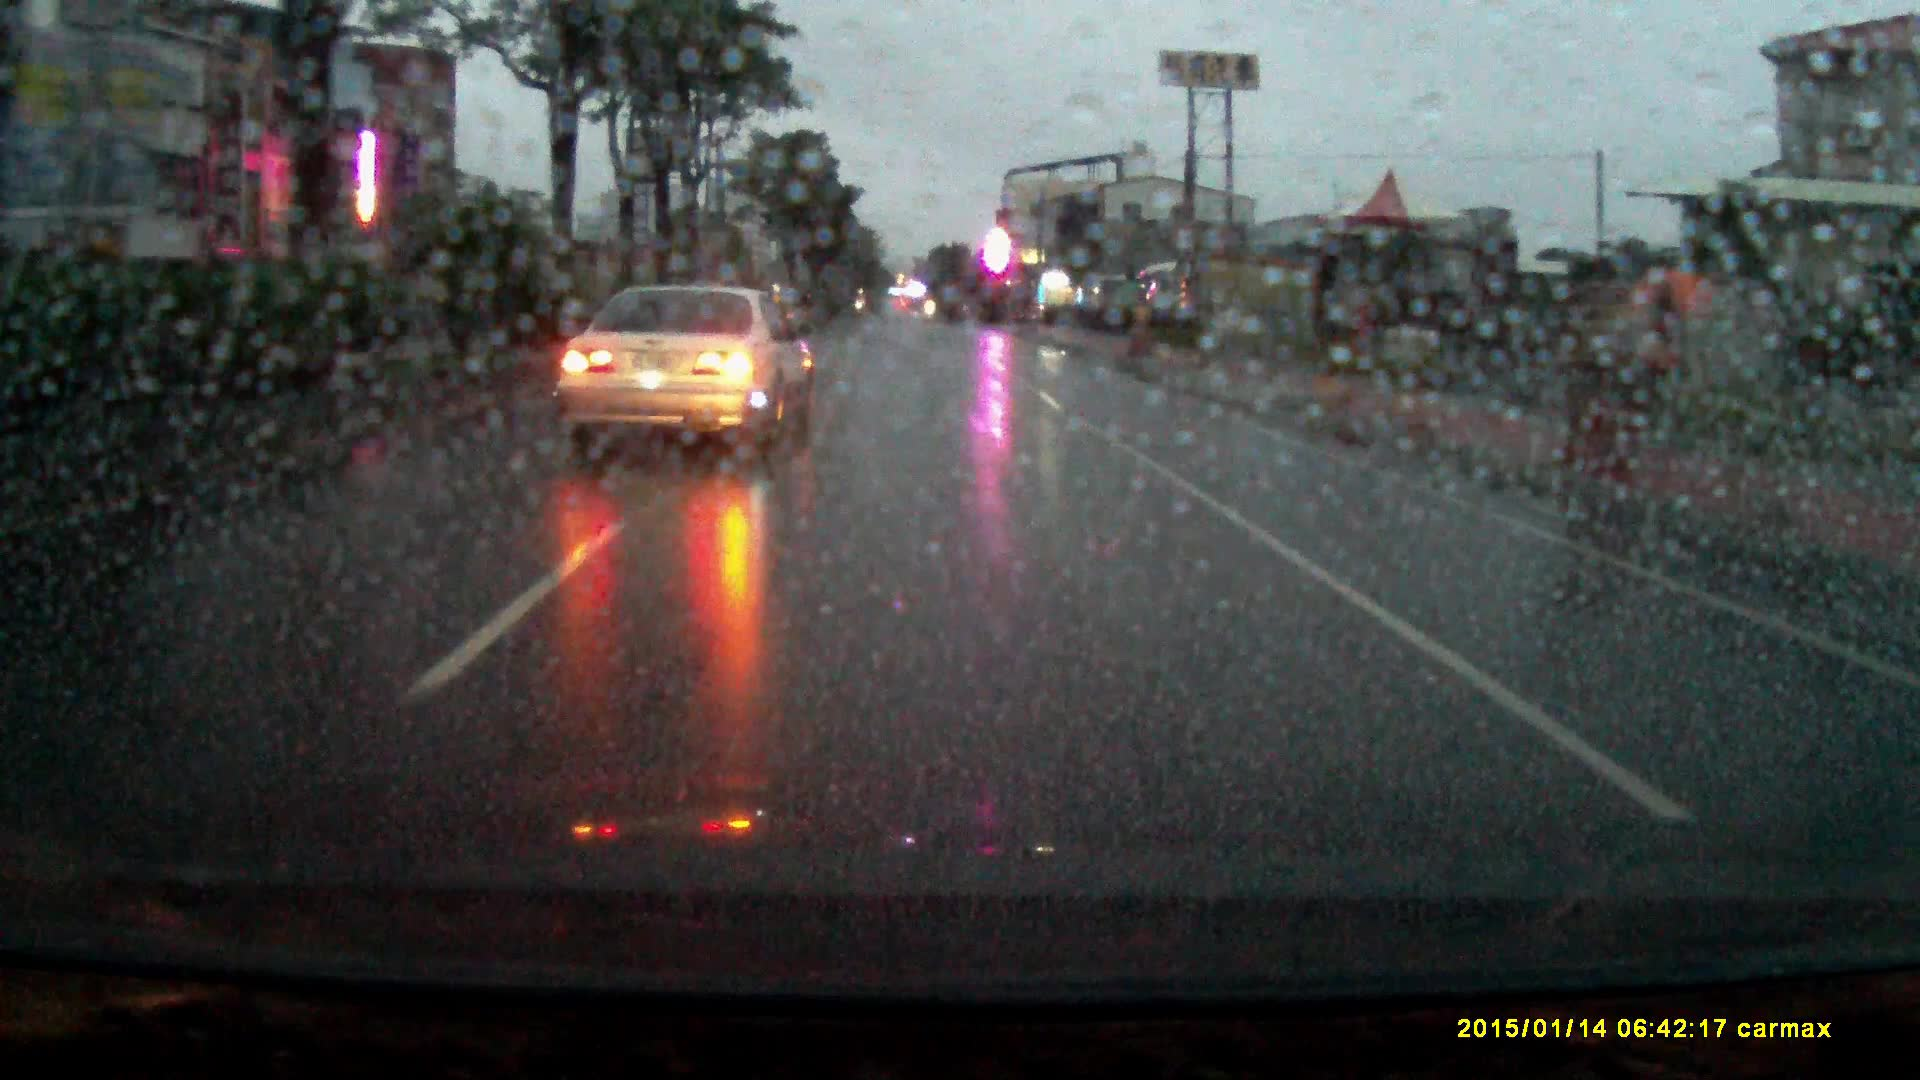pedestrian: (1618, 264, 1719, 490)
vehicle: (550, 286, 820, 465), (1080, 276, 1133, 312)
